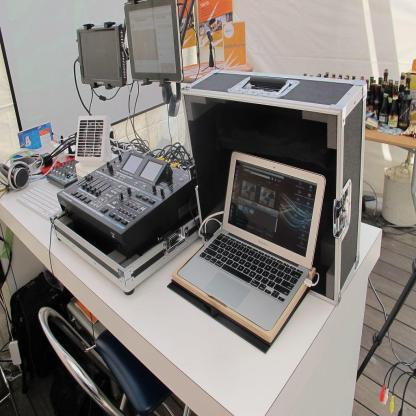board: (181, 134, 330, 346), (399, 73, 411, 132), (389, 82, 398, 126), (380, 91, 388, 124), (369, 80, 376, 113)
